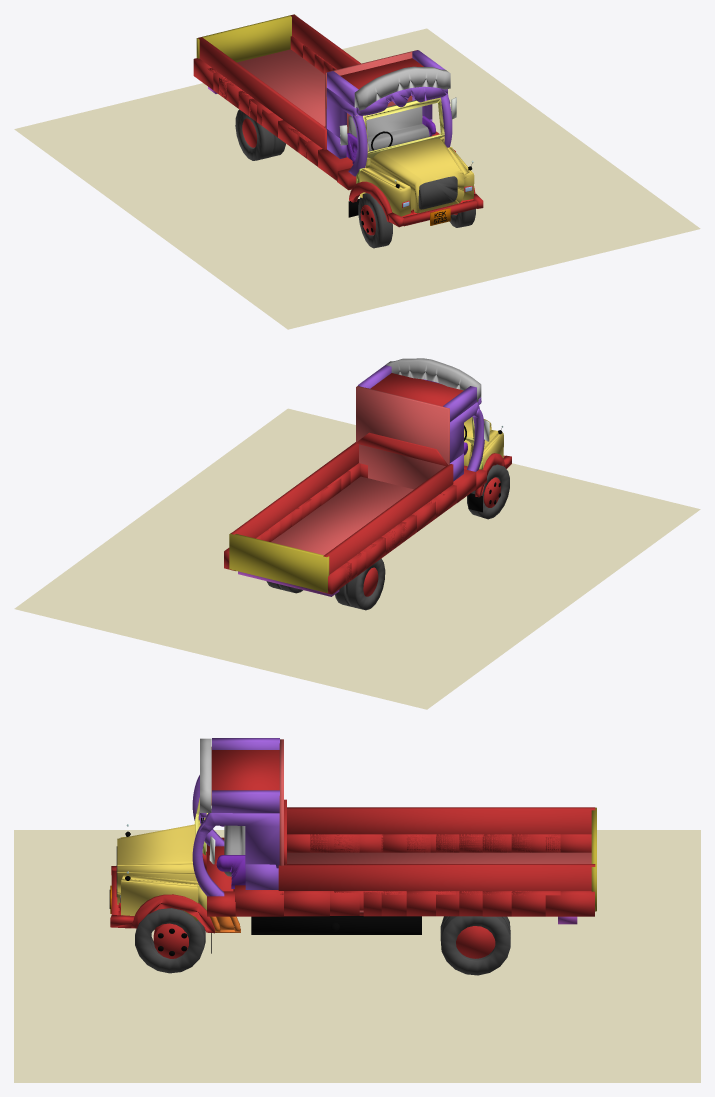
Rendered from tatalorry.glb.
3 renders of one model, top to bottom at view 1: azimuth 30°, elevation 25°; view 2: azimuth 150°, elevation 25°; view 3: azimuth 270°, elevation 25°, orthographic. The views are drawn at different scales.
Parts seen in each view (by area): view 1: skfb_offset; view 2: skfb_offset; view 3: skfb_offset.
Part boxes in pixels (x1,y1,x2,y2): skfb_offset: (14, 14, 700, 329); skfb_offset: (14, 358, 700, 709); skfb_offset: (14, 738, 700, 1082).
Size of the model in its own units: 394292 by 142668 by 452930.
